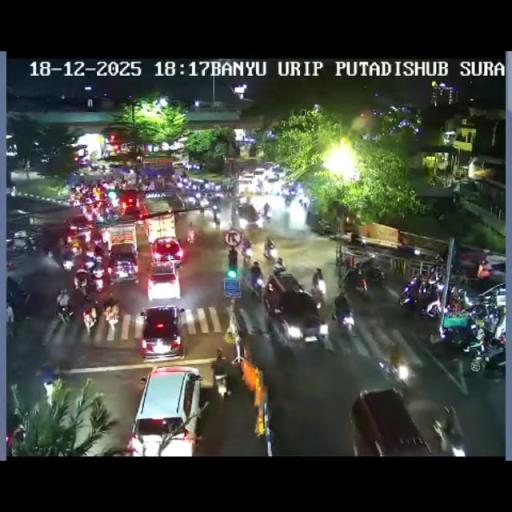Car: (126, 365, 202, 454), (350, 387, 436, 455), (263, 272, 326, 345), (138, 304, 184, 359), (107, 242, 140, 284), (468, 280, 506, 310), (455, 250, 492, 279), (150, 236, 184, 267), (66, 215, 95, 244), (117, 189, 142, 217), (237, 202, 259, 230), (237, 172, 254, 193), (252, 167, 267, 186), (266, 168, 279, 182)
Motorcycle: (398, 277, 444, 319), (432, 404, 466, 454), (437, 310, 479, 350), (465, 331, 504, 374), (376, 347, 414, 386), (236, 305, 262, 340), (331, 299, 355, 331), (482, 306, 503, 336), (212, 367, 230, 398), (103, 299, 120, 330), (6, 426, 26, 452), (95, 202, 119, 222), (448, 286, 467, 311), (422, 265, 442, 286), (309, 286, 325, 312), (315, 218, 337, 236), (57, 300, 73, 323), (61, 248, 77, 271), (205, 200, 220, 224), (82, 308, 97, 332), (250, 273, 264, 297), (353, 272, 368, 294), (80, 282, 94, 305), (90, 274, 106, 294), (22, 238, 38, 256), (348, 232, 366, 247), (264, 242, 278, 261), (240, 240, 253, 260), (74, 268, 88, 286), (184, 191, 199, 207), (82, 254, 97, 270), (272, 263, 287, 278), (227, 247, 238, 267), (230, 203, 239, 227), (312, 268, 323, 287), (94, 244, 104, 262), (261, 210, 272, 226), (198, 194, 210, 208), (186, 228, 195, 244), (284, 194, 294, 206), (298, 197, 308, 209), (226, 186, 234, 198), (199, 206, 205, 215)
